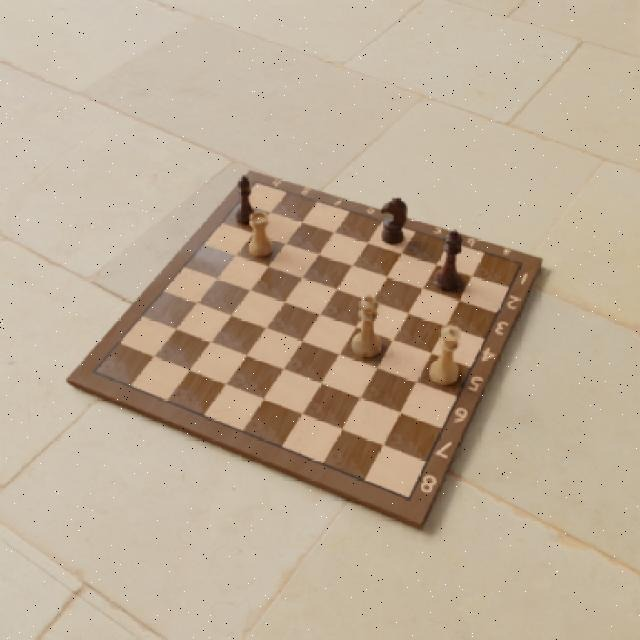black-bishop: (234, 176, 253, 226)
black-king: (432, 228, 464, 291)
black-knight: (380, 196, 408, 246)
white-king: (354, 291, 381, 357)
white-queen: (427, 321, 460, 386)
white-rook: (248, 211, 273, 260)
